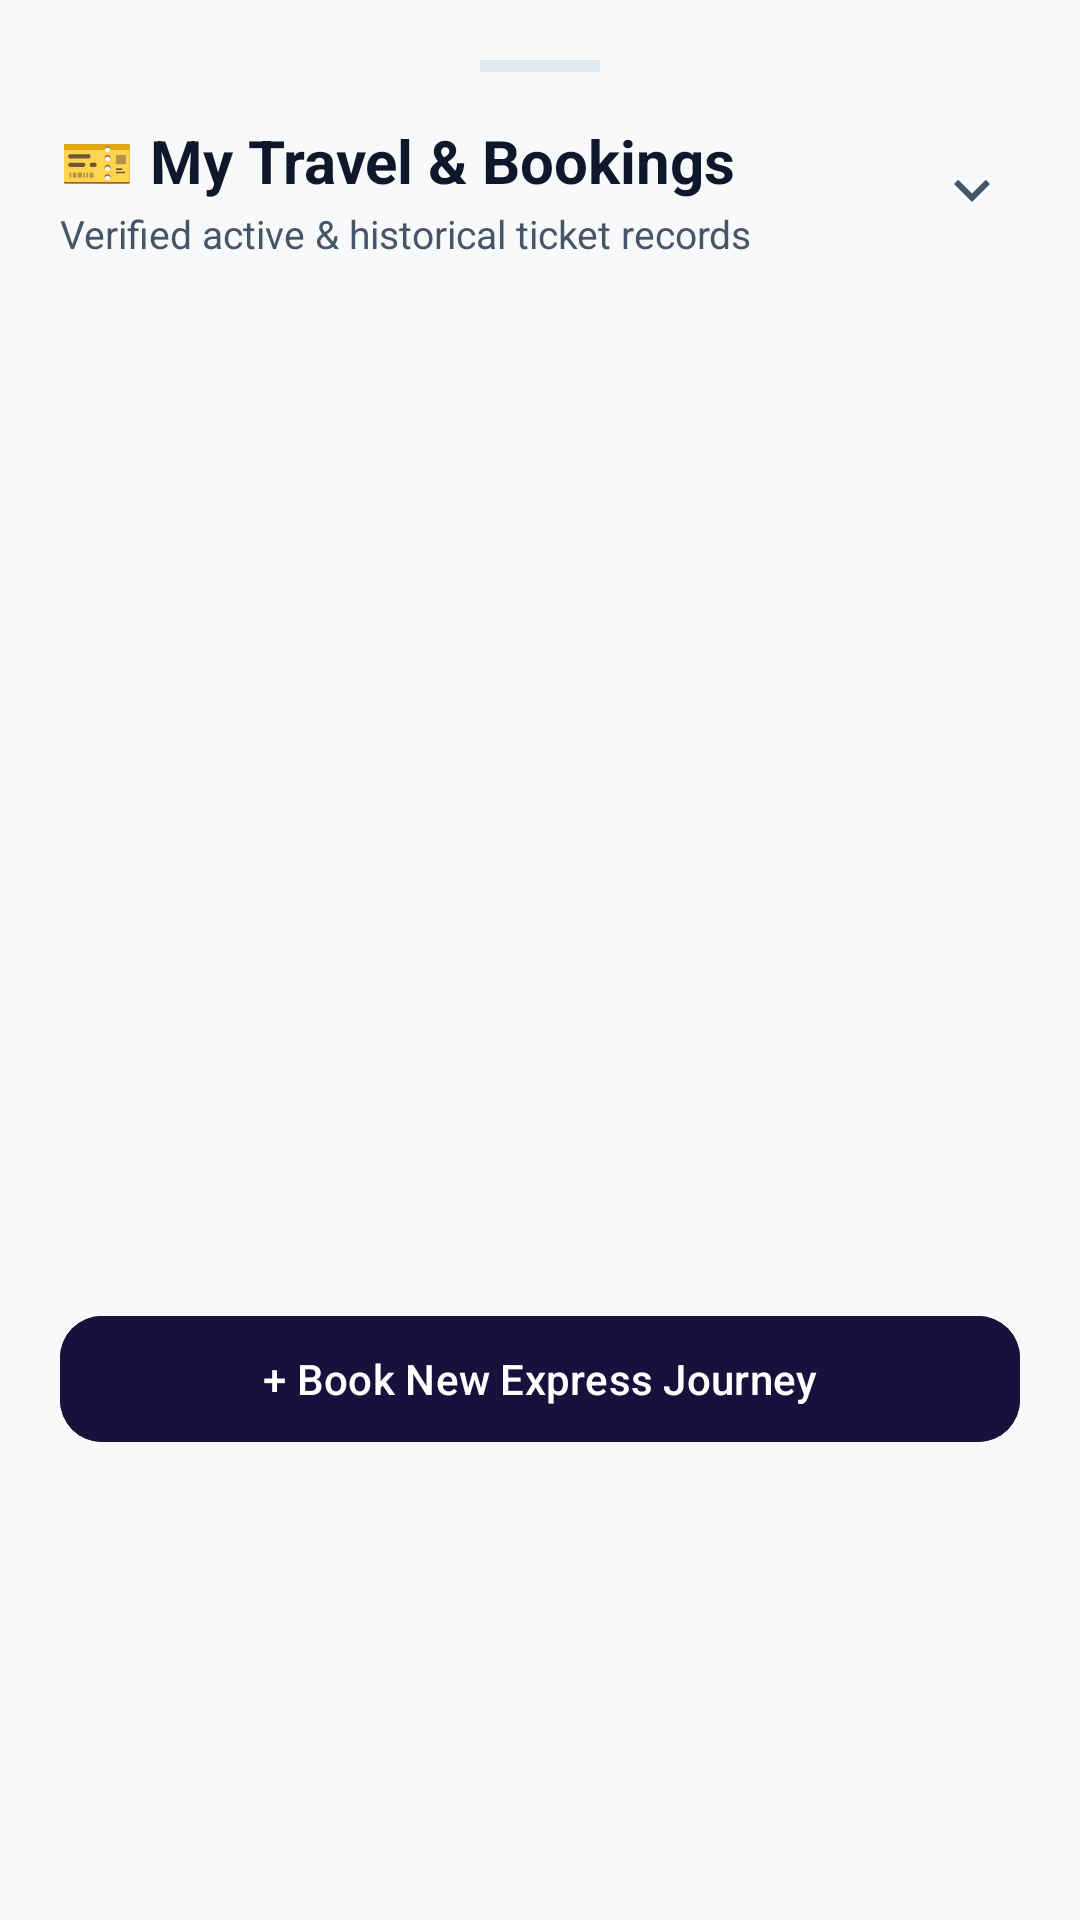

Locate icon controls on the screen. Image size 1080x1920, boxes as {"left": x1, "top": y1, "right": x2, "bottom": y2}.
chevron down: {"left": 954, "top": 180, "right": 990, "bottom": 202}
